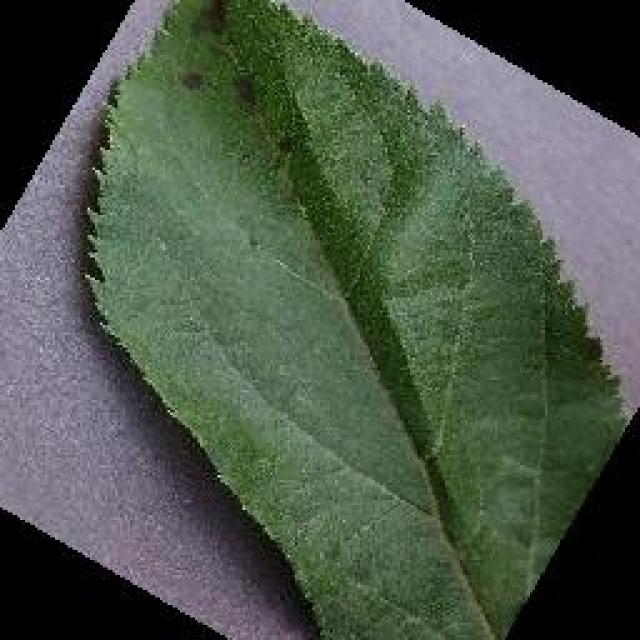apple scab disease: (75, 0, 633, 638)
